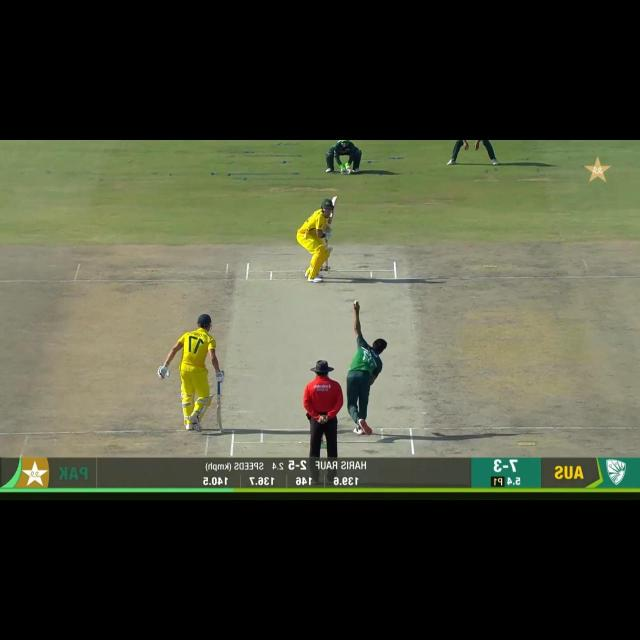bat: (214, 394, 226, 433), (328, 196, 341, 226)
toe: (215, 423, 227, 435), (331, 195, 339, 205)
